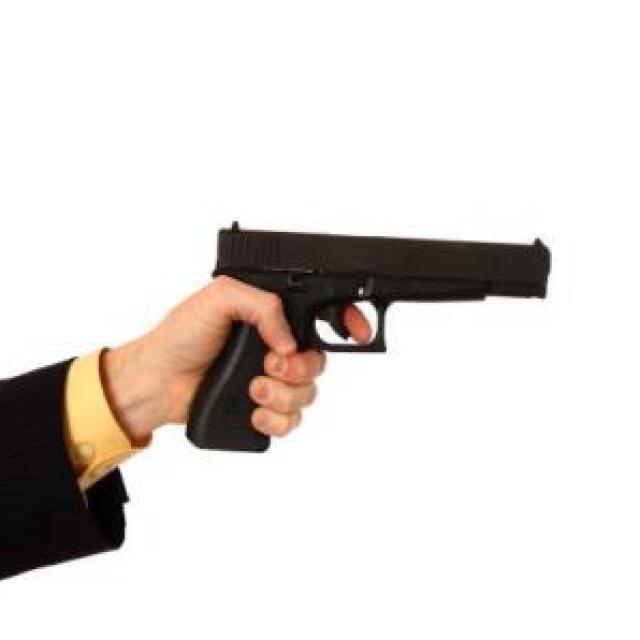pistol: (183, 208, 554, 460)
